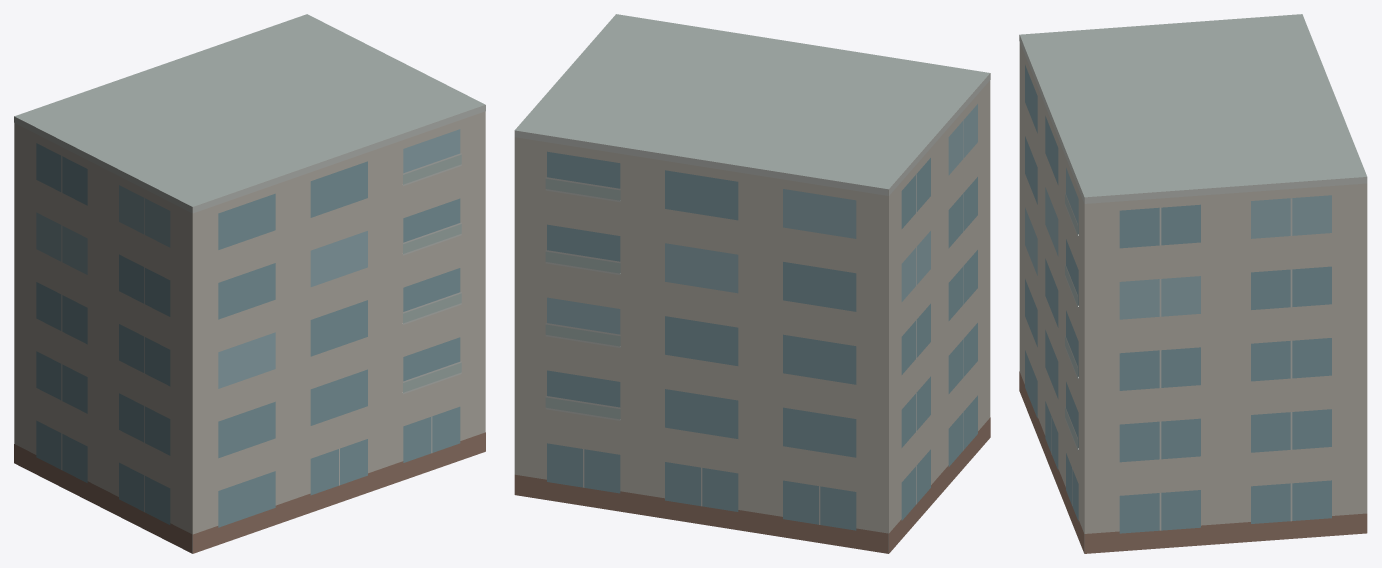
Rendered from survey-upis-32961941.glb.
3 views of the same model, side by side, from view 1: azimuth 30°, elevation 25°; view 2: azimuth 150°, elevation 25°; view 3: azimuth 270°, elevation 25° (orthographic). The views are drawn at different scales.
Visible parts, largest first — view 1: survey-upis-32961941.tmp; view 2: survey-upis-32961941.tmp; view 3: survey-upis-32961941.tmp.
Part boxes in pixels (bbox=[...]): survey-upis-32961941.tmp: bbox=[14, 14, 485, 553]; survey-upis-32961941.tmp: bbox=[514, 14, 990, 553]; survey-upis-32961941.tmp: bbox=[1019, 14, 1367, 553].
Size of the model in its own units: 14.46 by 13.1 by 11.59.
